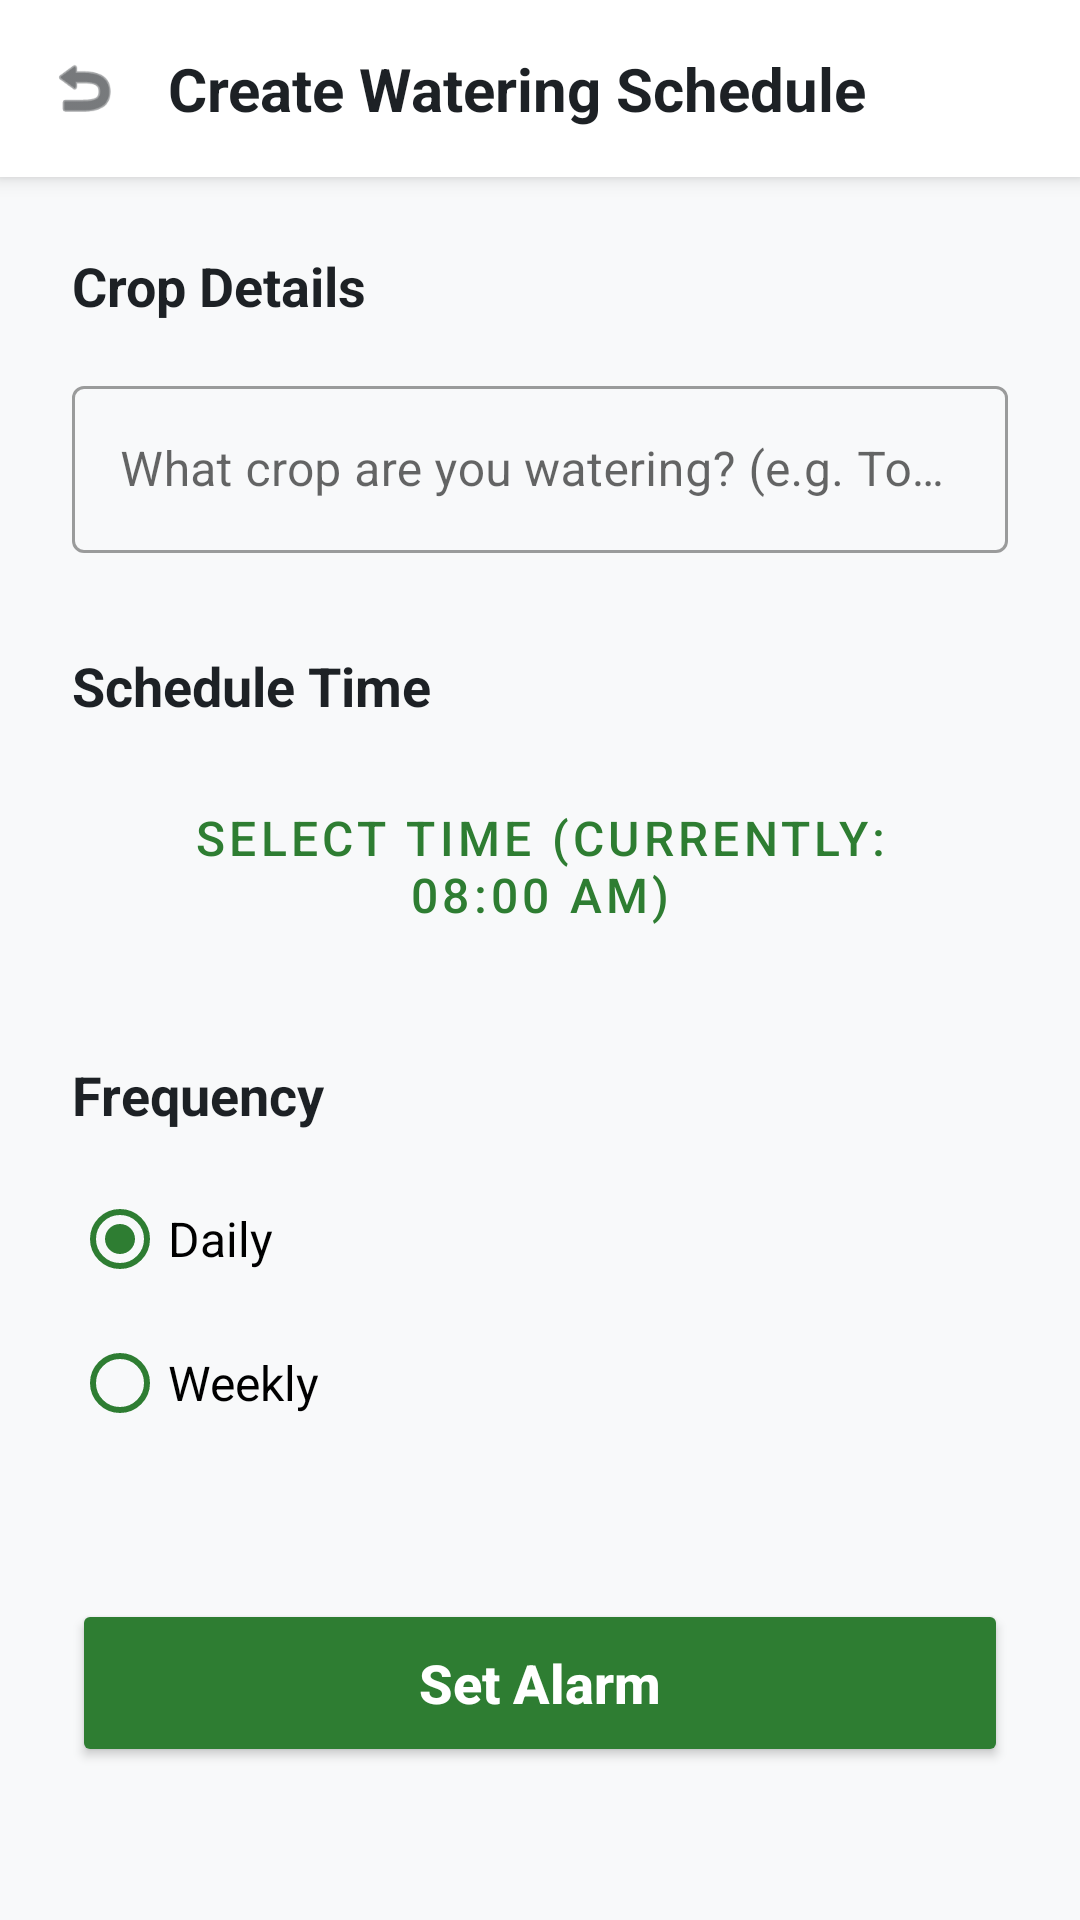

Where to tap for icons on this 1080x1920 app screen, as [x,y]:
revert: [85,88]
